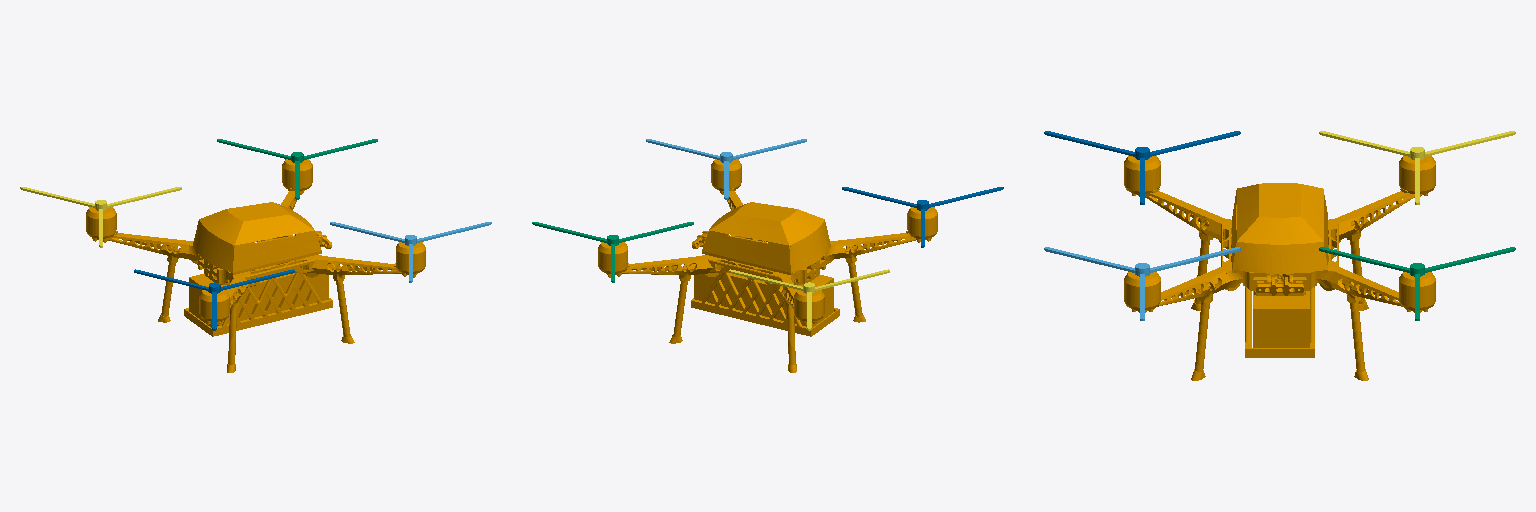
URDF robot description (quadrotor):
<?xml version="1.0"?>
<robot name="quadrotor">

  <!-- main body -->
  <link name="base_link">
    <visual>
      <origin xyz="0 0 0" rpy="0 0 0"/>
      <geometry>
        <mesh filename="Draft10e.stl"/>
      </geometry>
    </visual>
    <collision>
      <origin xyz="0 0 0" rpy="0 0 0"/>
      <geometry>
        <mesh filename="Draft10e.stl"/>
      </geometry>
    </collision>
    <inertial>
      <mass value="2.65686"/>
      <inertia ixx="0.03" iyy="0.053" izz="0.033" ixy="0" ixz="0" iyz="0"/>
      <origin xyz="0.00323 0.001 -0.014" rpy="0 0 0"/>
    </inertial>
  </link>

  <!-- rotor links -->
  <link name="rotor_1">
    <visual>
      <origin xyz="0 0 0" rpy="0 0 0"/>
      <geometry>
        <mesh filename="HQ_0MacroQuad_Prop_10a.stl"/>
      </geometry>
    </visual>
    <collision>
      <origin xyz="0 0 0" rpy="0 0 0"/>
      <geometry>
        <mesh filename="HQ_0MacroQuad_Prop_10a.stl"/>
      </geometry>
    </collision>
    <inertial>
      <mass value="0.026"/>
      <inertia ixx="0.0001" iyy="0.0001" izz="0.0001" ixy="0" ixz="0" iyz="0"/>
      <origin xyz="0 0 0" rpy="0 0 0"/>
    </inertial>
  </link>

  <link name="rotor_2">
    <visual>
      <origin xyz="0 0 0" rpy="0 0 0"/>
      <geometry>
        <mesh filename="HQ_0MacroQuad_Prop_10a.stl"/>
      </geometry>
    </visual>
    <collision>
      <origin xyz="0 0 0" rpy="0 0 0"/>
      <geometry>
        <mesh filename="HQ_0MacroQuad_Prop_10a.stl"/>
      </geometry>
    </collision>
    <inertial>
      <mass value="0.026"/>
      <inertia ixx="0.0001" iyy="0.0001" izz="0.0001" ixy="0" ixz="0" iyz="0"/>
      <origin xyz="0 0 0" rpy="0 0 0"/>
    </inertial>
  </link>

  <link name="rotor_3">
    <visual>
      <origin xyz="0 0 0" rpy="0 0 0"/>
      <geometry>
        <mesh filename="HQ_0MacroQuad_Prop_10a.stl"/>
      </geometry>
    </visual>
    <collision>
      <origin xyz="0 0 0" rpy="0 0 0"/>
      <geometry>
        <mesh filename="HQ_0MacroQuad_Prop_10a.stl"/>
      </geometry>
    </collision>
    <inertial>
      <mass value="0.026"/>
      <inertia ixx="0.0001" iyy="0.0001" izz="0.0001" ixy="0" ixz="0" iyz="0"/>
      <origin xyz="0 0 0" rpy="0 0 0"/>
    </inertial>
  </link>

  <link name="rotor_4">
    <visual>
      <origin xyz="0 0 0" rpy="0 0 0"/>
      <geometry>
        <mesh filename="HQ_0MacroQuad_Prop_10a.stl"/>
      </geometry>
    </visual>
    <collision>
      <origin xyz="0 0 0" rpy="0 0 0"/>
      <geometry>
        <mesh filename="HQ_0MacroQuad_Prop_10a.stl"/>
      </geometry>
    </collision>
    <inertial>
      <mass value="0.026"/>
      <inertia ixx="0.0001" iyy="0.0001" izz="0.0001" ixy="0" ixz="0" iyz="0"/>
      <origin xyz="0 0 0" rpy="0 0 0"/>
    </inertial>
  </link>

  <!-- rotors to base -->
  <joint name="rotor_1_joint" type="revolute">
    <parent link="base_link"/>
    <child link="rotor_1"/>
    <origin xyz="0.1584336 -0.1584337 0.0486" rpy="0 0 0"/>
    <axis xyz="0 0 1"/>
    <limit lower="0" upper="1000" effort="1.0" velocity="1000"/>
  </joint>

  <joint name="rotor_2_joint" type="revolute">
    <parent link="base_link"/>
    <child link="rotor_2"/>
    <origin xyz="0.1584336 0.1584337 0.0486" rpy="0 0 0"/>
    <axis xyz="0 0 1"/>
    <limit lower="0" upper="1000" effort="1.0" velocity="1000"/>
  </joint>

  <joint name="rotor_3_joint" type="revolute">
    <parent link="base_link"/>
    <child link="rotor_3"/>
    <origin xyz="-0.1584336 0.1584337 0.0486" rpy="0 0 0"/>
    <axis xyz="0 0 1"/>
    <limit lower="0" upper="1000" effort="1.0" velocity="1000"/>
  </joint>

  <joint name="rotor_4_joint" type="revolute">
    <parent link="base_link"/>
    <child link="rotor_4"/>
    <origin xyz="-0.1584337 -0.1584337 0.0486" rpy="0 0 0"/>
    <axis xyz="0 0 1"/>
    <limit lower="0" upper="1000" effort="1.0" velocity="1000"/>
  </joint>

</robot>

--- Render facts (derived) ---
The picture shows the robot from 3 angles, left to right: view 1: azimuth 30°, elevation 25°; view 2: azimuth 150°, elevation 25°; view 3: azimuth 270°, elevation 25°; orthographic projection.
Robot: quadrotor — 5 links, 4 joints (4 revolute); root link base_link; default pose: all joints at 0.
Visible links, largest first — view 1: base_link, rotor_2, rotor_4, rotor_3, rotor_1; view 2: base_link, rotor_1, rotor_3, rotor_2, rotor_4; view 3: base_link, rotor_1, rotor_2, rotor_3, rotor_4.
Boxes of the visible links, x1,y1,x2,y2 form: base_link: (86,159,425,372); rotor_2: (217,139,377,199); rotor_4: (134,269,294,330); rotor_3: (20,187,181,247); rotor_1: (330,222,491,282); base_link: (598,159,937,372); rotor_1: (646,139,806,199); rotor_3: (729,269,889,330); rotor_2: (532,222,693,282); rotor_4: (842,187,1003,247); base_link: (1124,155,1435,380); rotor_1: (1044,247,1240,320); rotor_2: (1319,247,1515,320); rotor_3: (1319,131,1515,204); rotor_4: (1044,131,1240,204).
Size in the robot's own frame: 0.5134 by 0.5428 by 0.1878 metres.
Meshes: 2 distinct files referenced, 5 mesh visuals loaded (2 binary STL).
